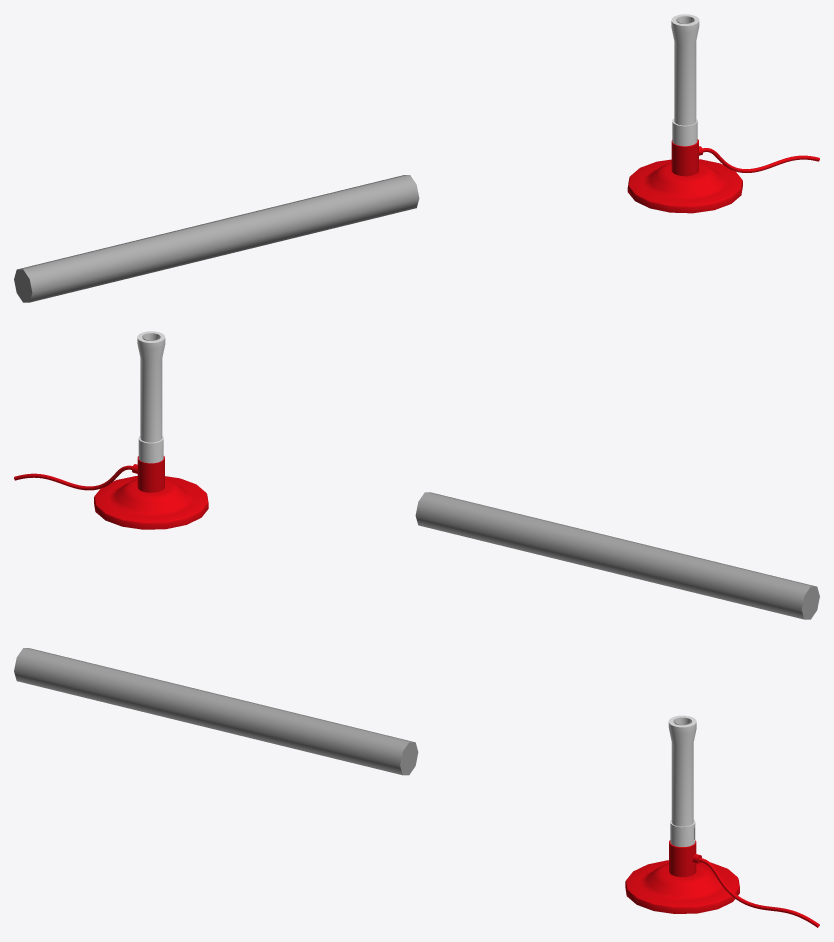
The model's file is iron_anim.fbx.
3 views of the same model, one above another, from view 1: azimuth 30°, elevation 25°; view 2: azimuth 150°, elevation 25°; view 3: azimuth 330°, elevation 25° (orthographic).
Visible parts, largest first — view 1: iron, bunsun burner; view 2: iron, bunsun burner; view 3: iron, bunsun burner.
Part boxes in pixels (x1,y1,x2,y2): iron: (14, 175, 419, 302); bunsun burner: (627, 14, 819, 213); iron: (415, 492, 819, 619); bunsun burner: (14, 331, 208, 529); iron: (14, 648, 418, 775); bunsun burner: (625, 715, 819, 927).
Size of the model in its own units: 136 by 28.49 by 17.13.
